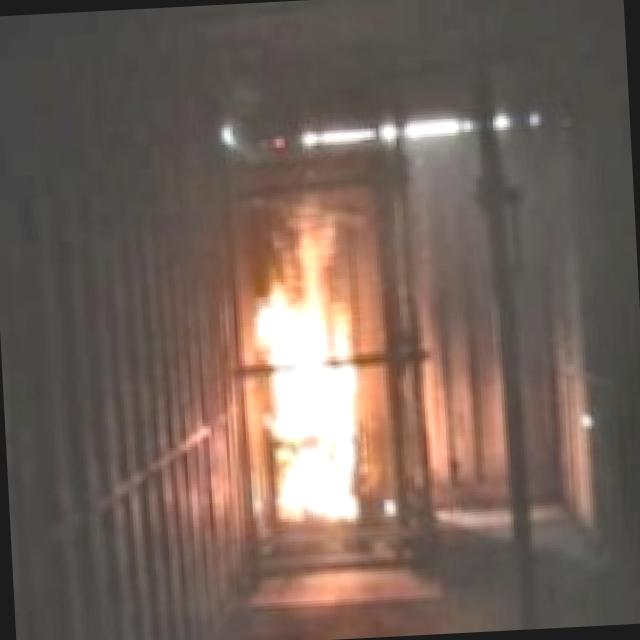fire: (239, 272, 389, 526)
